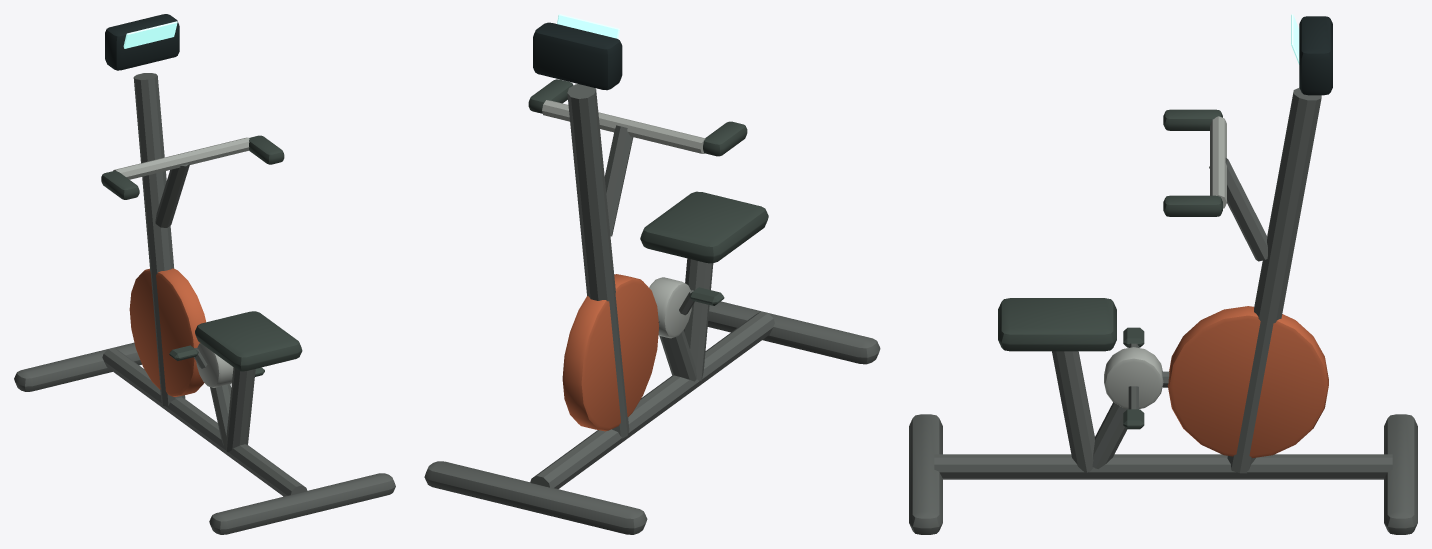
File: exercise_bike.glb
3 renders of one model, left to right at view 1: azimuth 30°, elevation 25°; view 2: azimuth 150°, elevation 25°; view 3: azimuth 270°, elevation 25°, orthographic. The views are drawn at different scales.
Parts seen in each view (by area): view 1: FURN-exercise_bike; view 2: FURN-exercise_bike; view 3: FURN-exercise_bike.
Boxes of the visible parts, box(x1,y1,x2,y2) form: FURN-exercise_bike: box(14, 14, 395, 534); FURN-exercise_bike: box(424, 14, 880, 534); FURN-exercise_bike: box(909, 14, 1417, 534).
Bounding box in the file's own units: 0.6 × 1.19 × 1.2.
